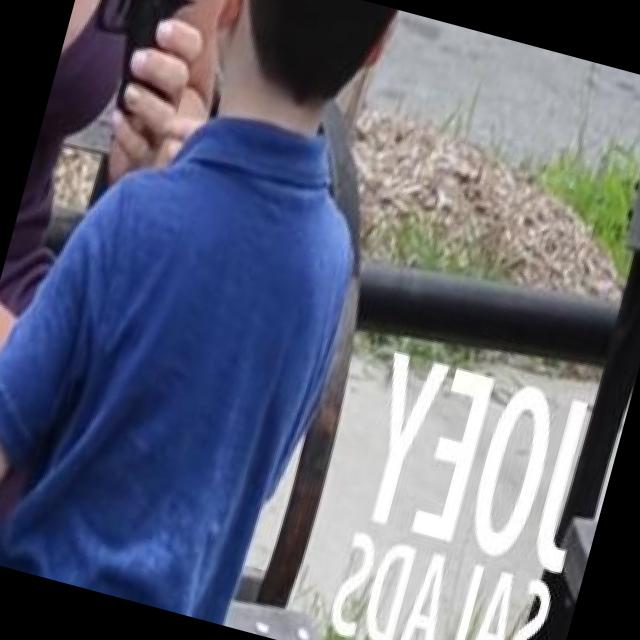Guns: (43, 0, 206, 147)
